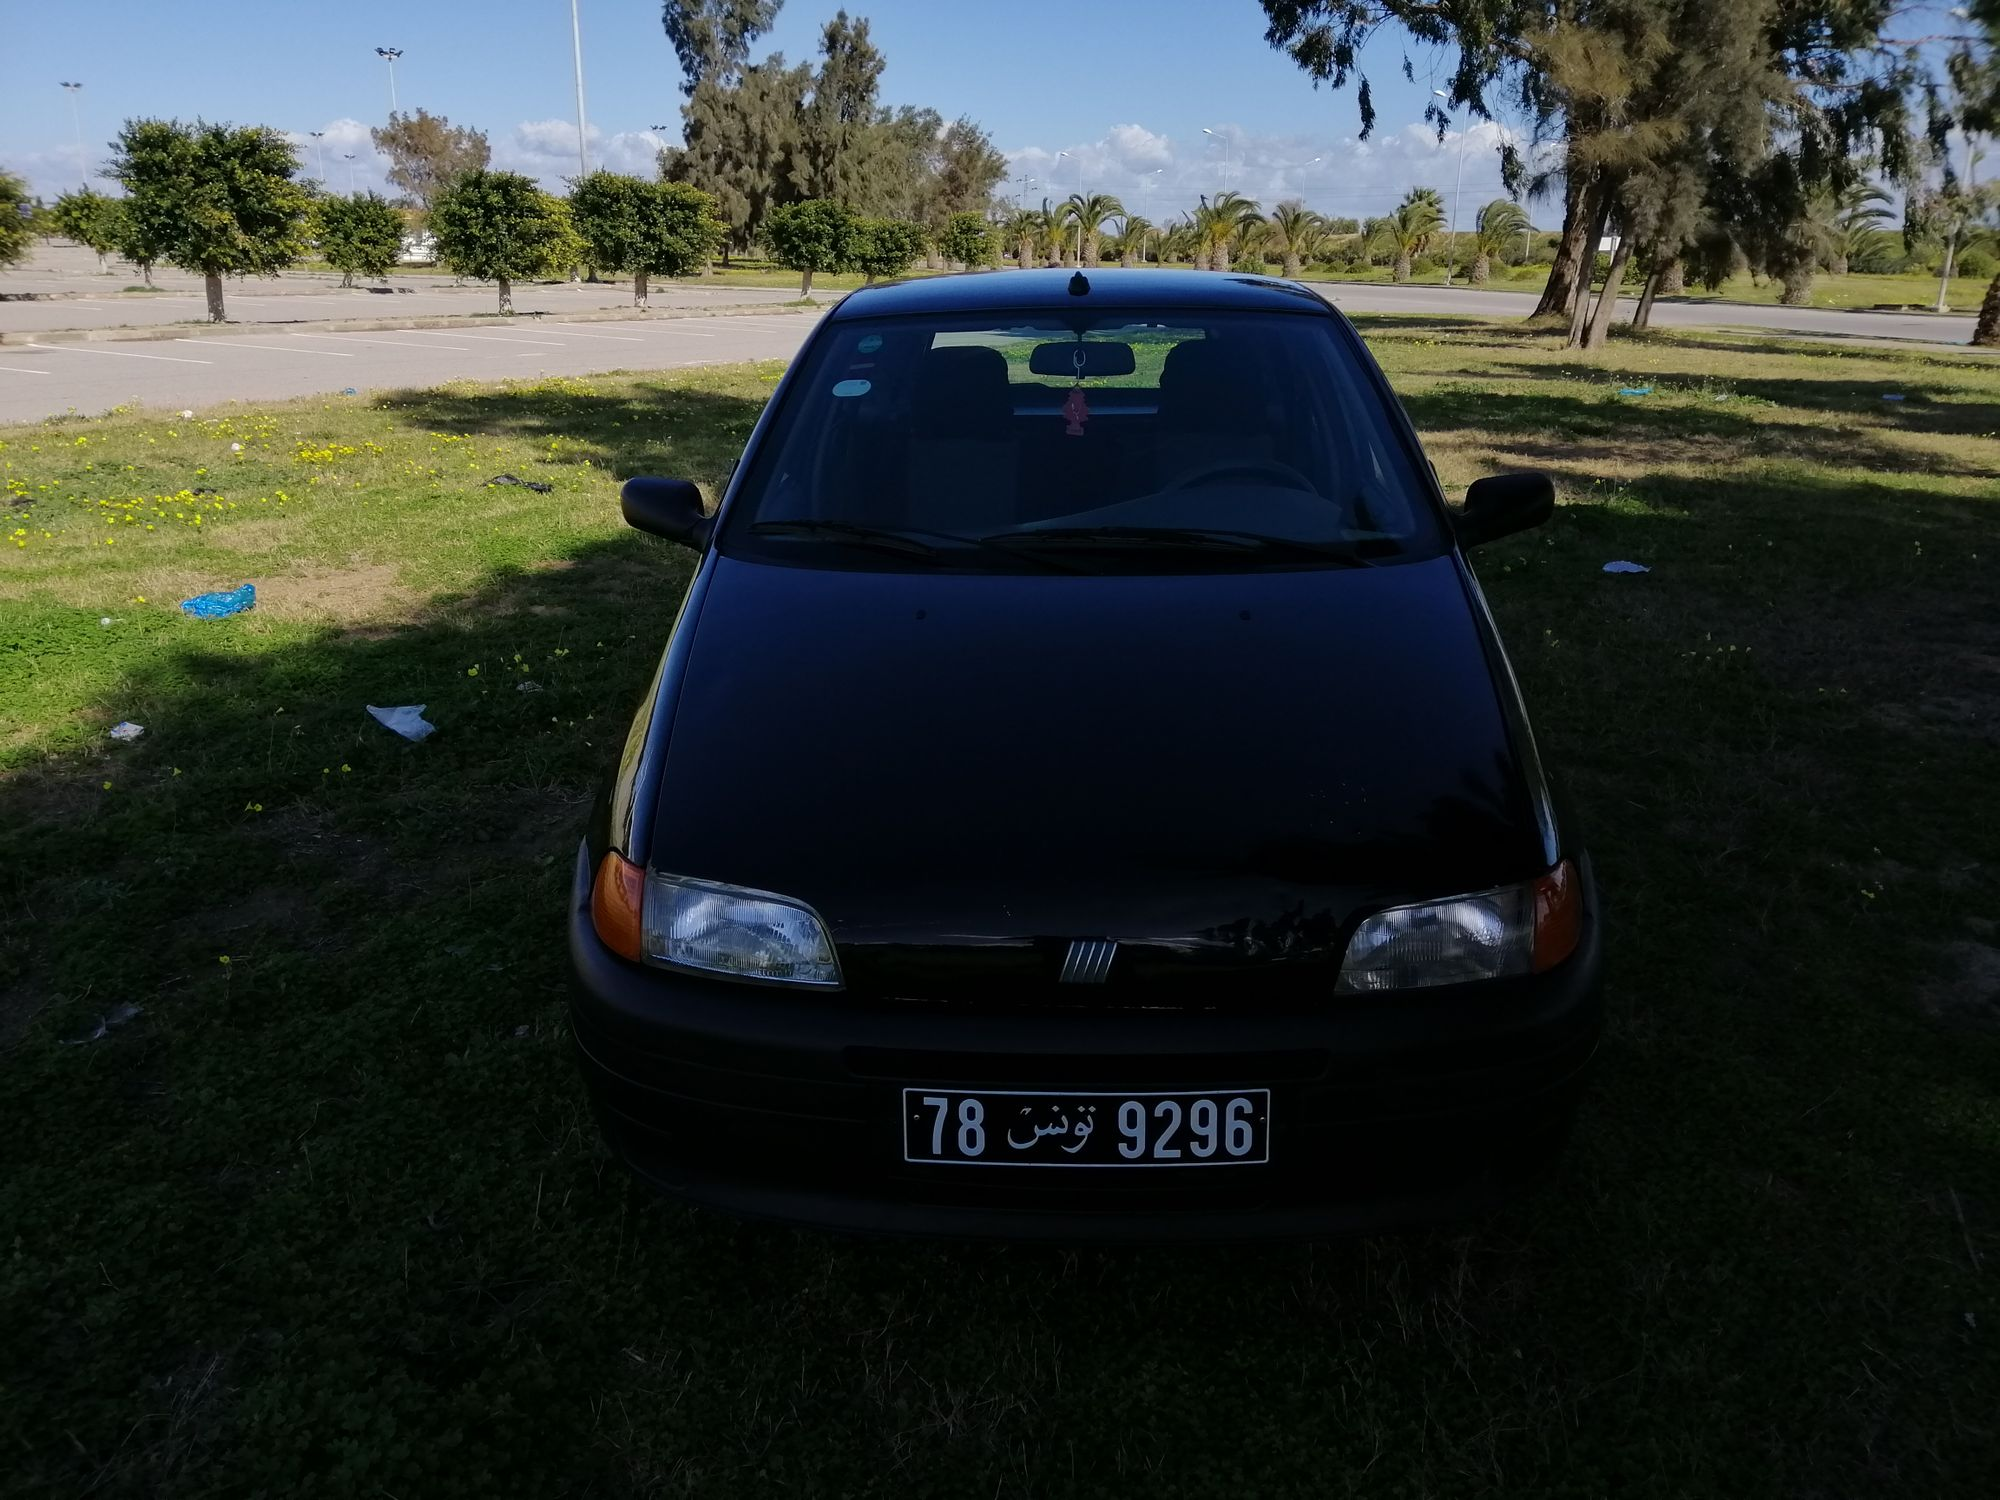LP: (901, 1085, 1272, 1170)
